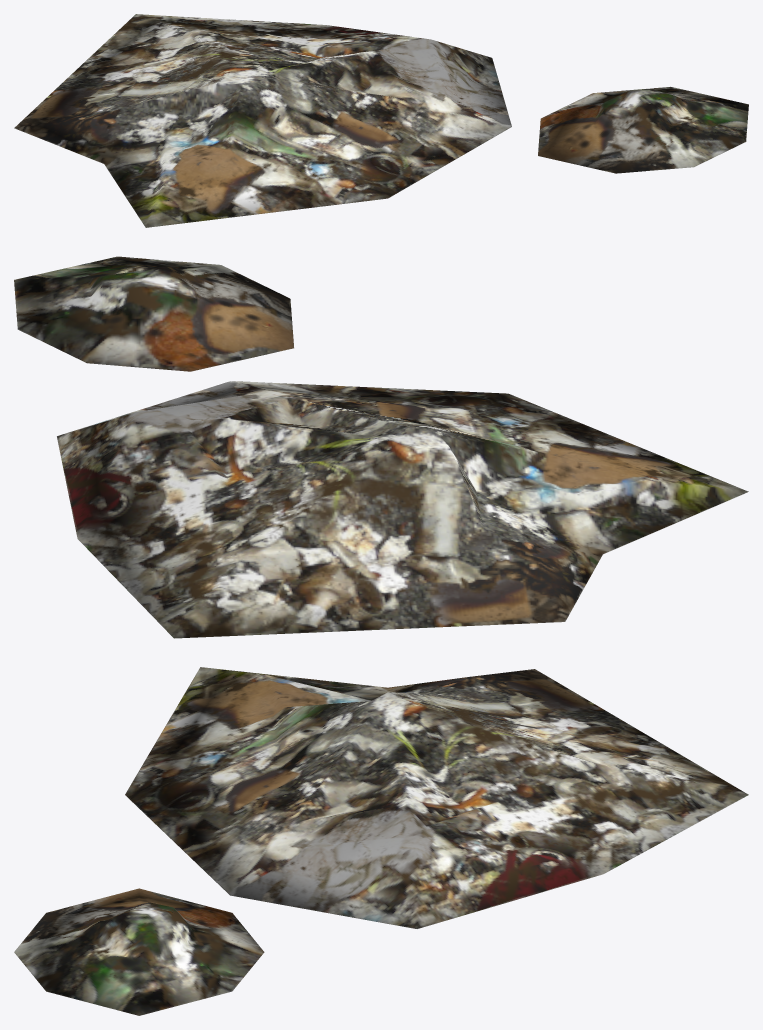
Rendered from TrashPile02.fbx.
3 views of the same model, one above another, from view 1: azimuth 30°, elevation 25°; view 2: azimuth 150°, elevation 25°; view 3: azimuth 270°, elevation 25° (orthographic). The views are drawn at different scales.
Parts seen in each view (by area): view 1: TrashPile02; view 2: TrashPile02; view 3: TrashPile02.
Part boxes in pixels (x1,y1,x2,y2): TrashPile02: [14, 14, 748, 227]; TrashPile02: [14, 256, 748, 638]; TrashPile02: [14, 667, 748, 1015].
Bounding box in the file's own units: 155 × 13.49 × 138.
